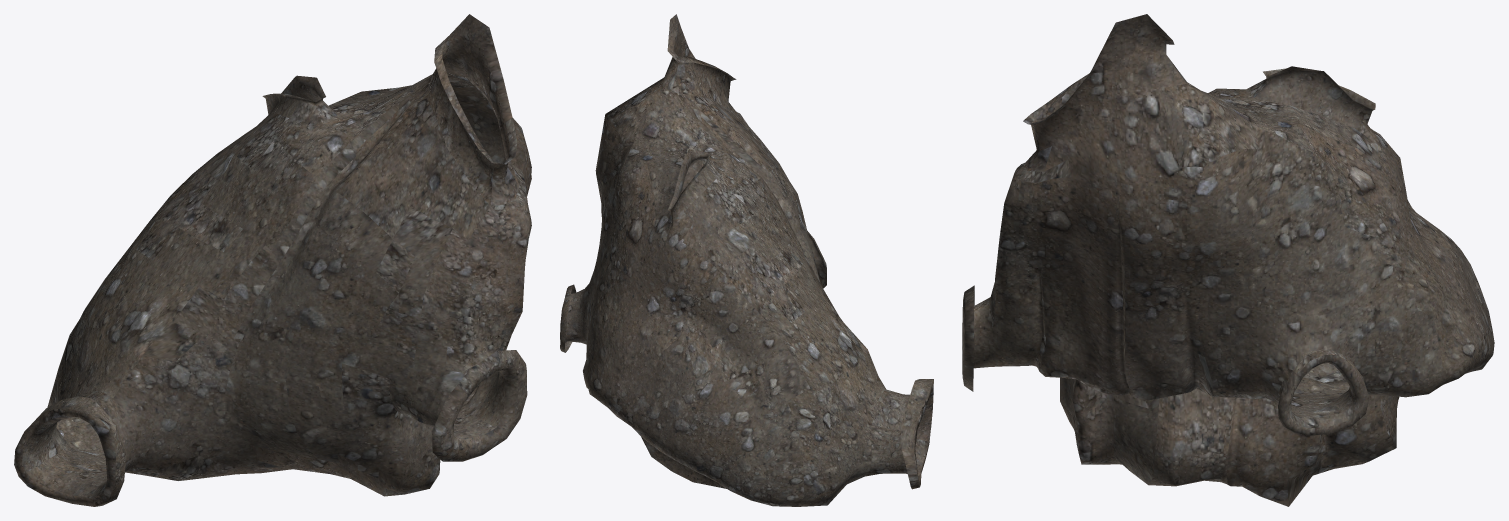
Rendered from cave_chamber_05.dae.
The picture shows the model from 3 angles, left to right: view 1: azimuth 30°, elevation 25°; view 2: azimuth 150°, elevation 25°; view 3: azimuth 270°, elevation 25°; orthographic projection. The views are drawn at different scales.
Parts seen in each view (by area): view 1: chamber_05; view 2: chamber_05; view 3: chamber_05.
Part boxes in pixels (x1,y1,x2,y2): chamber_05: (14, 14, 531, 506); chamber_05: (560, 14, 933, 506); chamber_05: (962, 14, 1494, 506).
Size of what is drawn, in the model's own units: 33.3 by 33.6 by 31.09.
